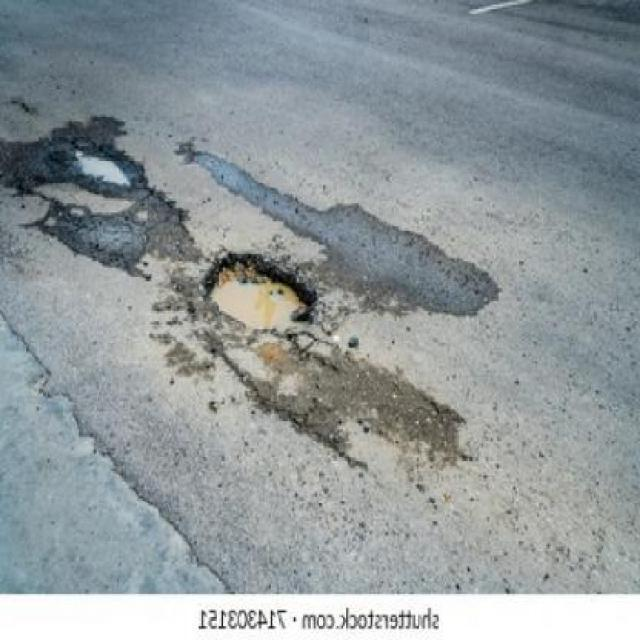pothole: (203, 254, 317, 336)
